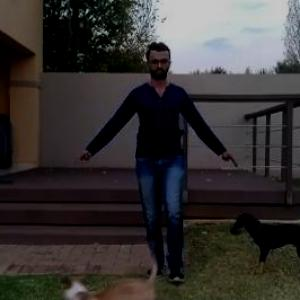land: (80, 54, 222, 280)
